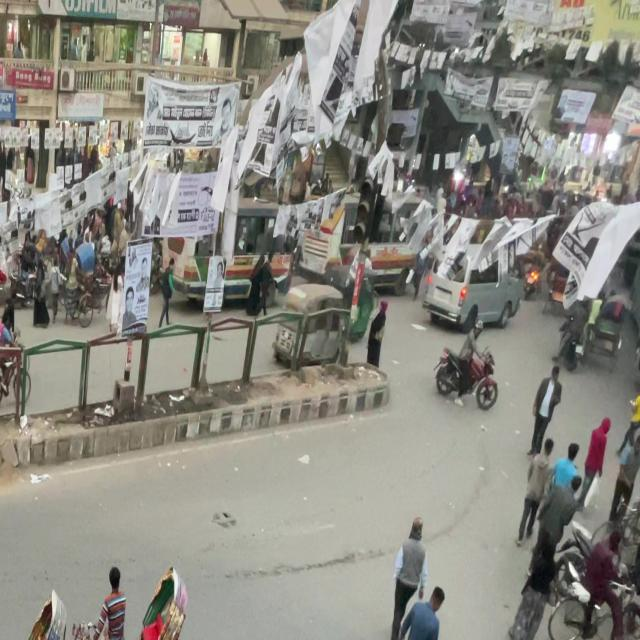car: (414, 213, 556, 339), (550, 198, 639, 342)
motorbike: (434, 348, 497, 411)
